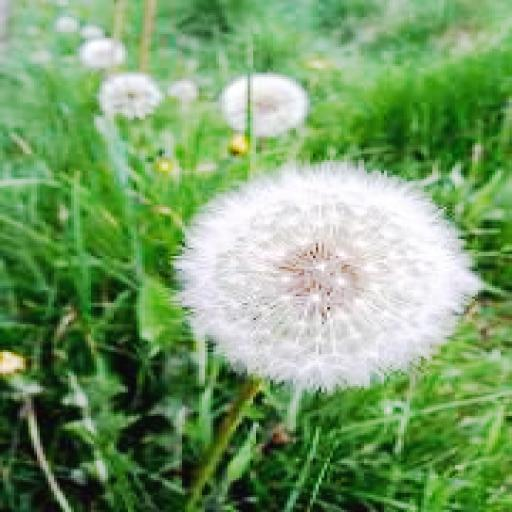dandelion: (174, 160, 484, 395), (219, 75, 307, 132), (100, 72, 165, 122)
